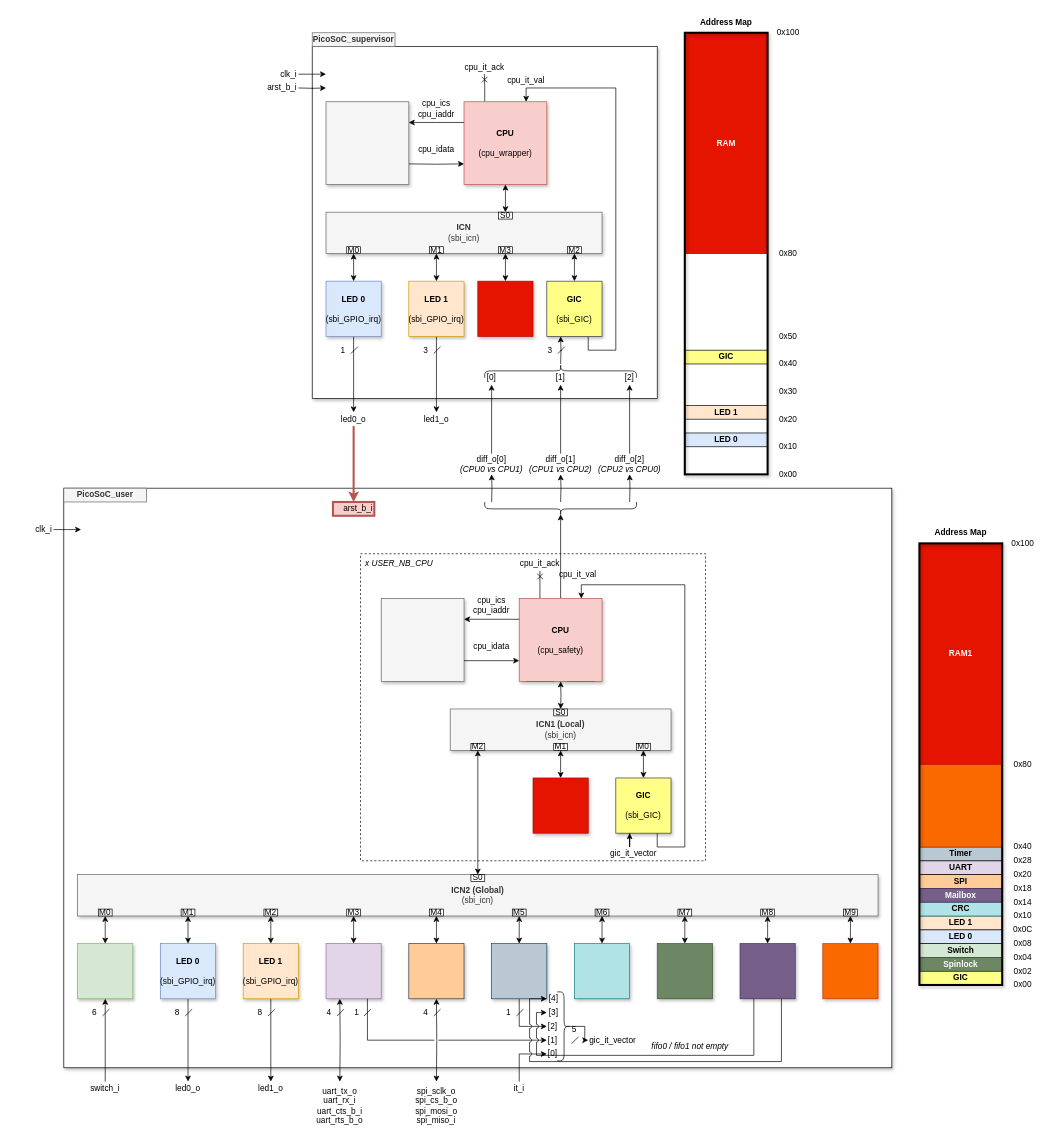
Some shapes in this 1055 by 1138 pixel diagram are drawn without their labels. The centre of each missing label's shape, as x and y in pixels:
"CRC (sbi_crc)" goes at point 602,972.
"Mailbox (sbi_mailbox)" goes at point 768,972.
"RAM (sbi_ram)" goes at point 505,309.
"RAM1 (sbi_ram)" goes at point 561,806.
"RAM2" goes at point 960,805.
"RAM2 (sbi_ram)" goes at point 850,972.
"ROM (ROM_supervisor)" goes at point 368,143.
"ROM (ROM_user)" goes at point 423,640.
"SPI (sbi_spi)" goes at point 436,972.
"Spinlock (sbi_spinlock)" goes at point 685,972.
"Switch (sbi_GPIO_irq)" goes at point 105,972.
"Timer (sbi_timer)" goes at point 519,972.
"UART (sbi_uart)" goes at point 354,972.
